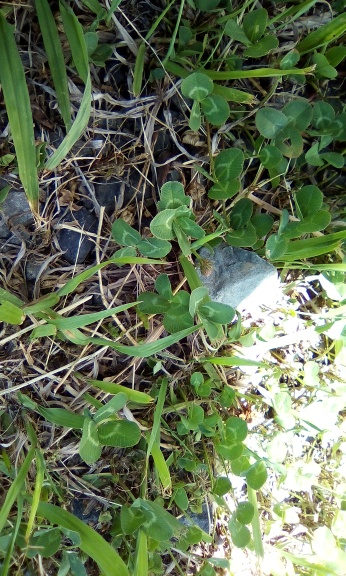4leaf: (136, 272, 195, 334)
